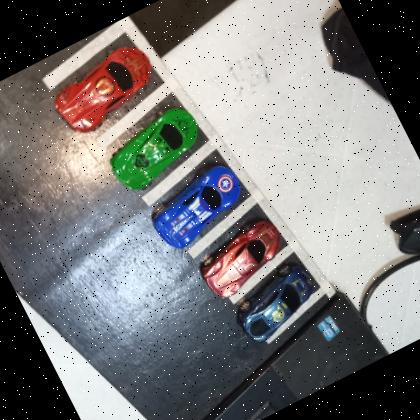Car: (42, 36, 168, 144), (96, 97, 214, 200), (139, 156, 256, 255), (226, 256, 330, 348), (191, 213, 296, 303)
